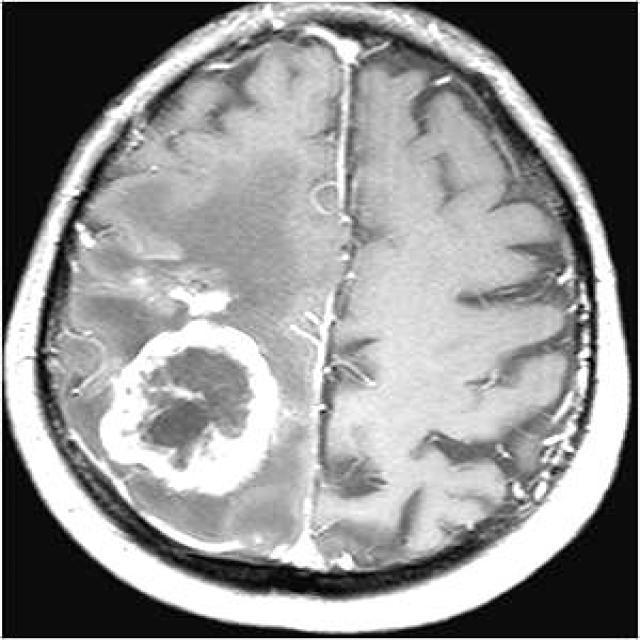brain tumor: (100, 319, 279, 491)
